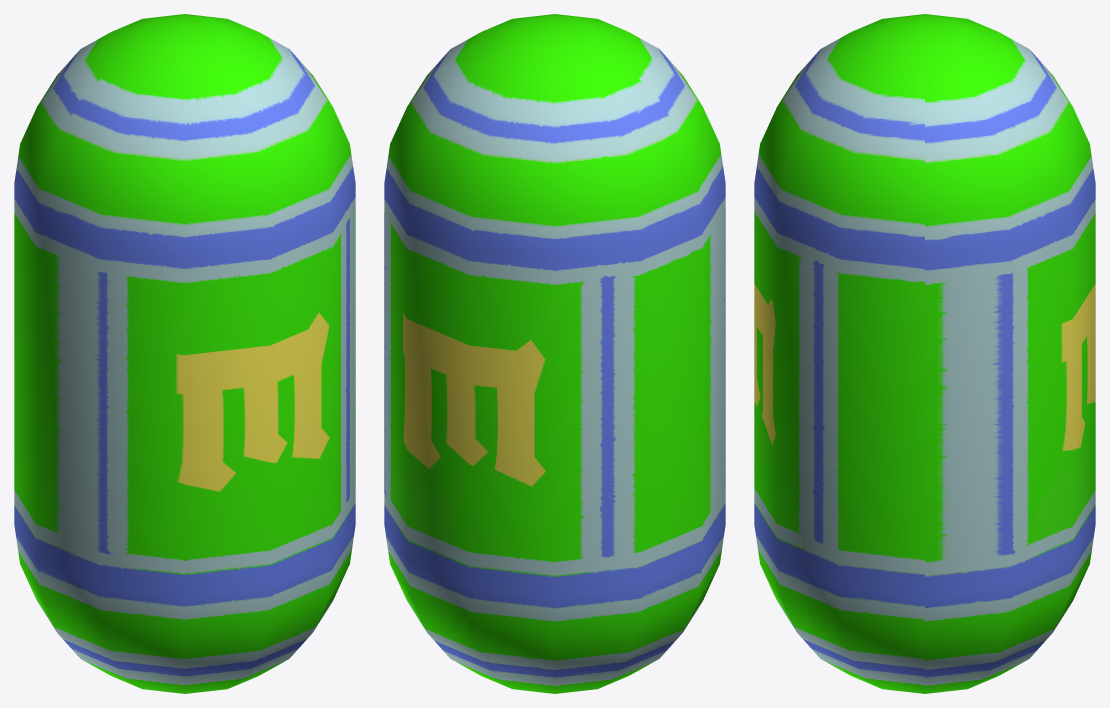
File: energy.FBX
3 views of the same model, side by side, from view 1: azimuth 30°, elevation 25°; view 2: azimuth 150°, elevation 25°; view 3: azimuth 270°, elevation 25° (orthographic).
Visible parts, largest first — view 1: Capsule001; view 2: Capsule001; view 3: Capsule001.
Boxes of the visible parts, <box> form: Capsule001: <box>14,14,355,693</box>; Capsule001: <box>384,14,725,693</box>; Capsule001: <box>754,14,1095,693</box>.
Bounding box in the file's own units: 32.81 × 68.83 × 32.81.
